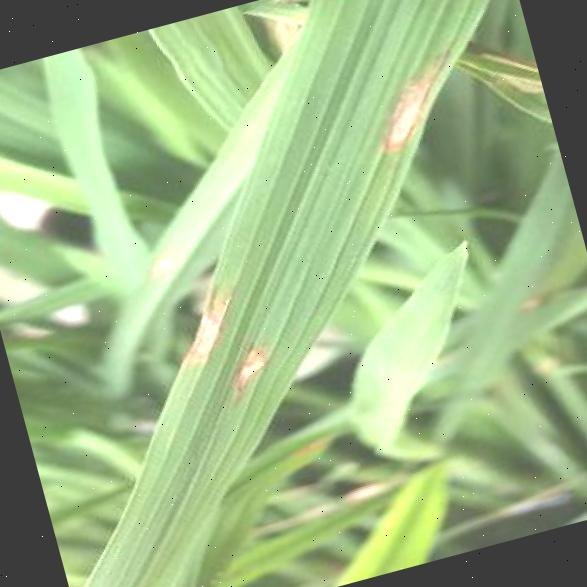Leaf_smut: (320, 22, 495, 184), (121, 248, 258, 384), (188, 320, 310, 422)
